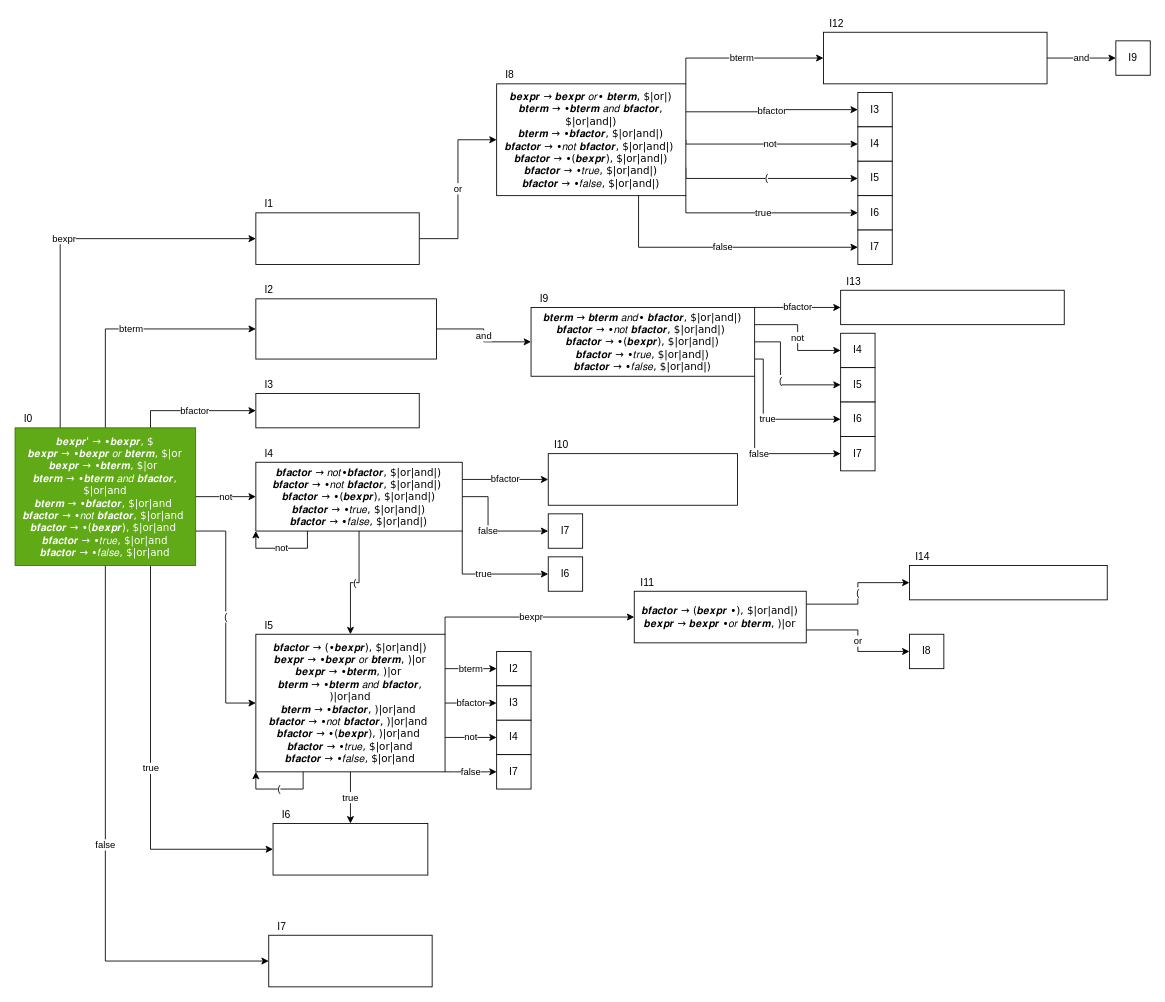
Image size: 1165x1002. Some labels were removed from this diagram. The shapes that lost their labels are listed below. From the top down, each one's centre as x and y in pixels, then its label:
At point 935,57: "𝒃𝒆𝒙𝒑𝒓 → 𝒃𝒆𝒙𝒑𝒓 𝑜𝑟 𝒃𝒕𝒆𝒓𝒎•, $|or|) 𝒃𝒕𝒆𝒓𝒎 → 𝒃𝒕𝒆𝒓𝒎 •𝑎𝑛𝑑 𝒃𝒇𝒂𝒄𝒕𝒐𝒓, $|or|and|)".
At point 337,238: "𝒃𝒆𝒙𝒑𝒓' → 𝒃𝒆𝒙𝒑𝒓 •, $ 𝒃𝒆𝒙𝒑𝒓 → 𝒃𝒆𝒙𝒑𝒓• 𝑜𝑟 𝒃𝒕𝒆𝒓𝒎, $|or".
At point 952,307: "𝒃𝒕𝒆𝒓𝒎 → 𝒃𝒕𝒆𝒓𝒎 𝑎𝑛𝑑• 𝒃𝒇𝒂𝒄𝒕𝒐𝒓, $|or|and|)".
At point 345,328: "𝒃𝒆𝒙𝒑𝒓 → 𝒃𝒕𝒆𝒓𝒎•, $|or|) 𝒃𝒕𝒆𝒓𝒎 → •𝒃𝒕𝒆𝒓𝒎 𝑎𝑛𝑑 𝒃𝒇𝒂𝒄𝒕𝒐𝒓, $|or|and".
At point 337,410: "𝒃𝒕𝒆𝒓𝒎 → 𝒃𝒇𝒂𝒄𝒕𝒐𝒓•, $|or|and|)".
At point 642,479: "𝒃𝒇𝒂𝒄𝒕𝒐𝒓 → 𝑛𝑜𝑡 𝒃𝒇𝒂𝒄𝒕𝒐𝒓 •, $|or|and|)".
At point 1008,582: "𝒃𝒇𝒂𝒄𝒕𝒐𝒓 → (𝒃𝒆𝒙𝒑𝒓)•, $|or|and|)".
At point 350,849: "𝒃𝒇𝒂𝒄𝒕𝒐𝒓 → 𝑡𝑟𝑢𝑒•, $|or|and|)".
At point 350,960: "𝒃𝒇𝒂𝒄𝒕𝒐𝒓 → 𝑓𝑎𝑙𝑠𝑒•, $|or|and|)".
